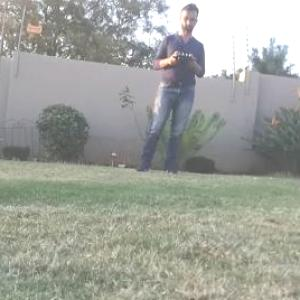follow: (128, 0, 208, 179)
